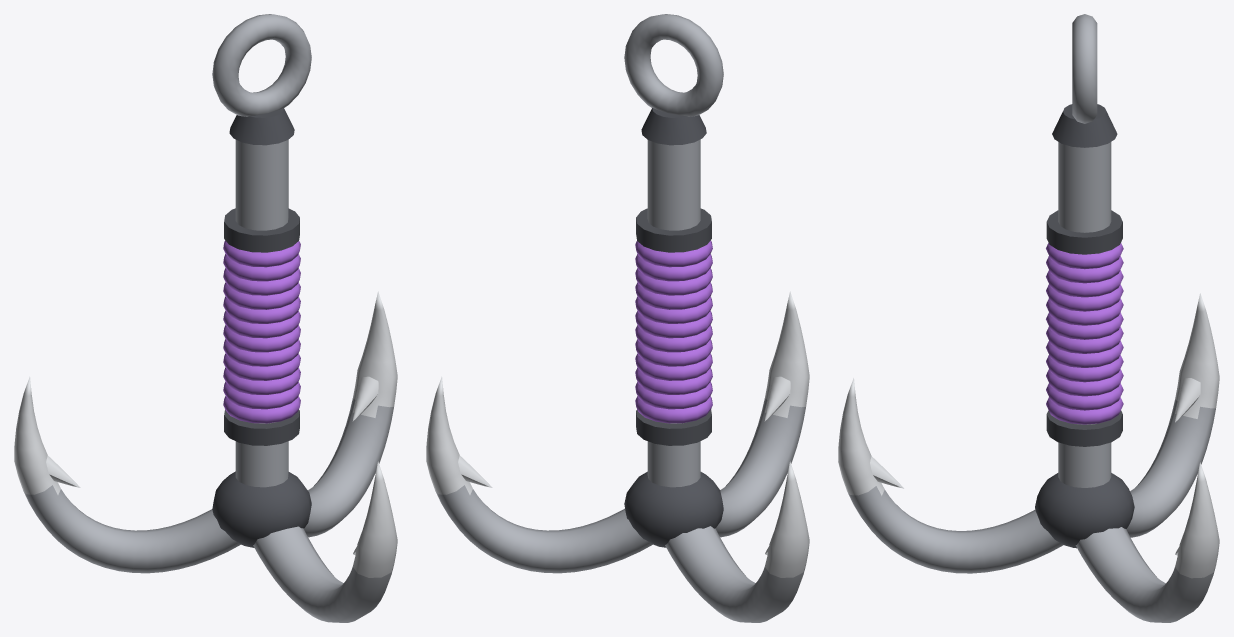
Rendered from Hook.fbx.
The picture shows the model from 3 angles, left to right: view 1: azimuth 30°, elevation 25°; view 2: azimuth 150°, elevation 25°; view 3: azimuth 270°, elevation 25°; orthographic projection.
Visible parts, largest first — view 1: Hook; view 2: Hook; view 3: Hook.
Part boxes in pixels (x1,y1,x2,y2): Hook: [14, 14, 397, 622]; Hook: [426, 14, 809, 622]; Hook: [838, 14, 1219, 622].
Bounding box in the file's own units: 0.1392 × 0.1952 × 0.1224.
